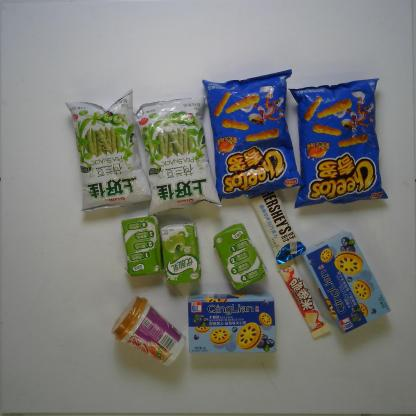Chocolate: (252, 182, 306, 266), (278, 256, 328, 340)
Dessert: (306, 229, 395, 335), (187, 292, 278, 356)
Instant Drink: (109, 295, 187, 370)
Milk: (213, 220, 269, 290), (159, 220, 203, 286), (121, 214, 165, 278)
Puffed Food: (201, 68, 306, 203), (287, 77, 390, 210), (61, 90, 155, 214), (132, 94, 223, 217)
